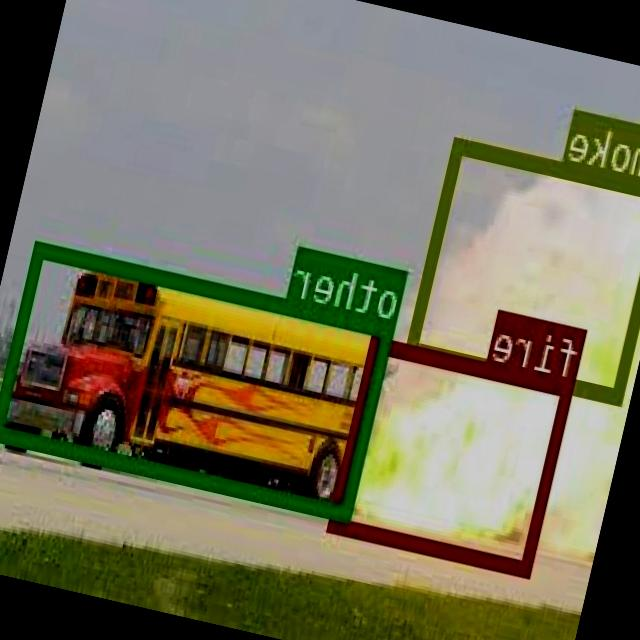fire: (329, 336, 576, 574)
smoke: (407, 134, 640, 401)
